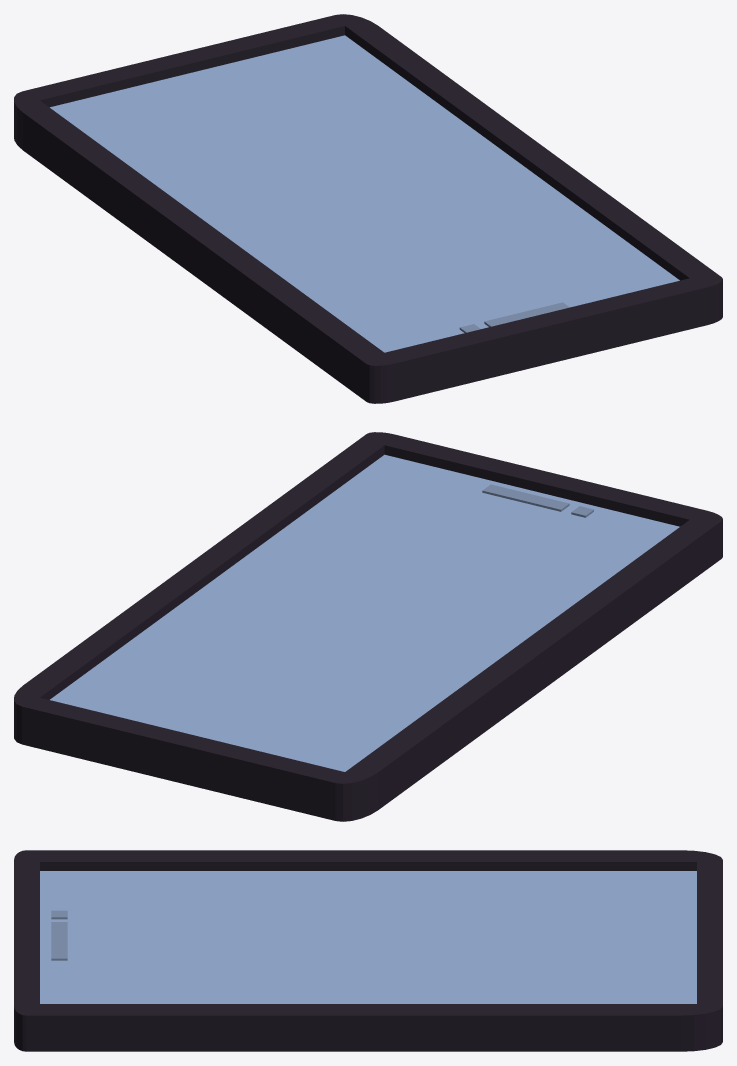
File: CelOsc.fbx
The picture shows the model from 3 angles, top to bottom: view 1: azimuth 30°, elevation 25°; view 2: azimuth 150°, elevation 25°; view 3: azimuth 270°, elevation 25°; orthographic projection. The views are drawn at different scales.
Visible parts, largest first — view 1: Cubo; view 2: Cubo; view 3: Cubo.
Boxes of the visible parts, x1,y1,x2,y2 form: Cubo: (14, 14, 722, 403); Cubo: (14, 432, 722, 821); Cubo: (14, 850, 722, 1051).
Bounding box in the file's own units: 766 × 78.24 × 1390.
